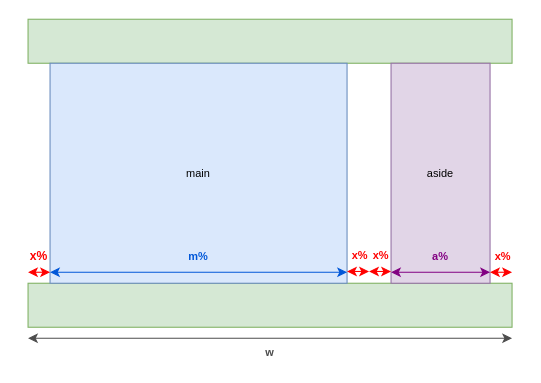
Image size: 541x383. Some labels were removed from this diagram. The shapes that lost their labels are listed below. From the top down, each one's centre as x and y in pixels, then its label:
[269,40]: header
[269,304]: footer
